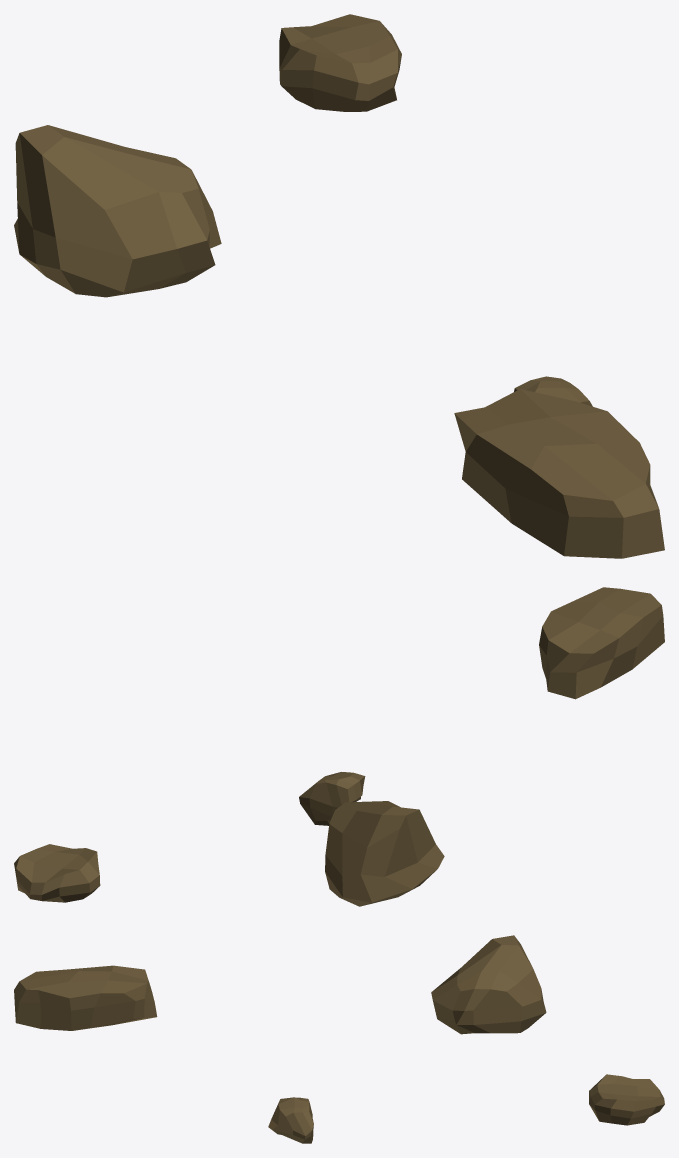
File: rock4.FBX
3 views of the same model, one above another, from view 1: azimuth 30°, elevation 25°; view 2: azimuth 150°, elevation 25°; view 3: azimuth 270°, elevation 25° (orthographic). The views are drawn at different scales.
Parts seen in each view (by area): view 1: Rock_11, Rock_16, Rock_17, Rock8; view 2: Rock_16, Rock_11, Rock_17, Rock8; view 3: Rock_11, Rock_16, Rock_17, Rock8.
Boxes of the visible parts, x1,y1,x2,y2 form: Rock_11: [14, 125, 221, 297]; Rock_16: [454, 389, 664, 558]; Rock_17: [279, 14, 401, 111]; Rock8: [514, 376, 592, 406]; Rock_16: [539, 587, 664, 699]; Rock_11: [325, 801, 444, 906]; Rock_17: [14, 844, 100, 902]; Rock8: [299, 772, 365, 825]; Rock_11: [431, 935, 546, 1034]; Rock_16: [14, 965, 157, 1030]; Rock_17: [589, 1074, 664, 1125]; Rock8: [268, 1097, 313, 1143].
Size of the model in its own units: 6129 by 2807 by 13377.
